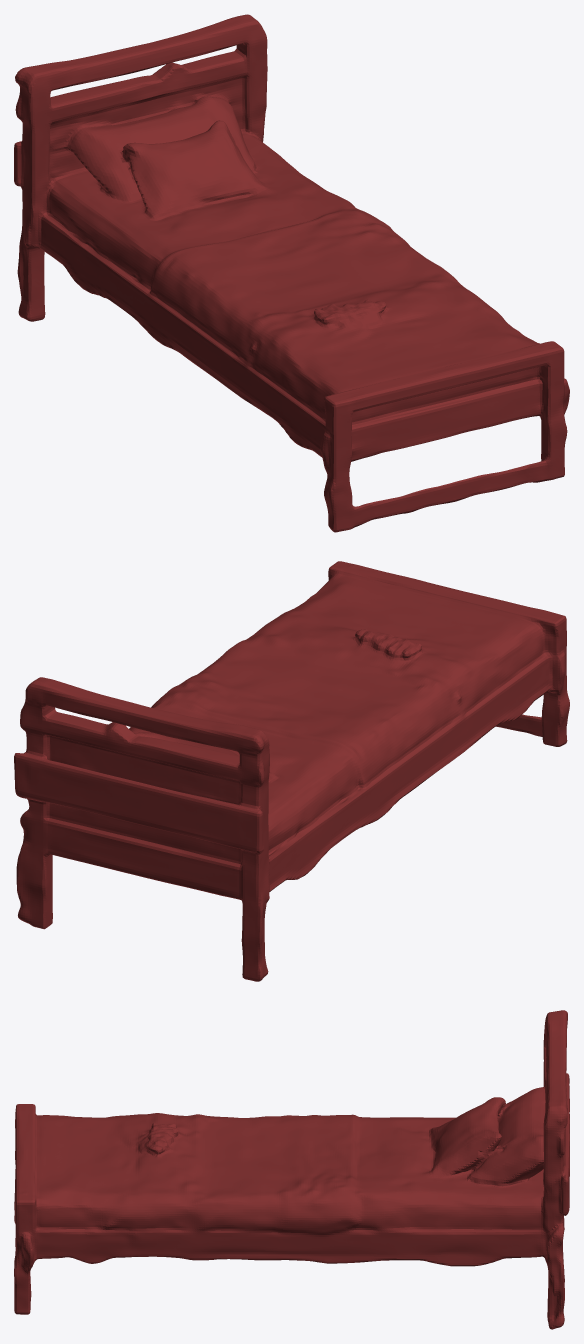
The picture shows the model from 3 angles, top to bottom: view 1: azimuth 30°, elevation 25°; view 2: azimuth 150°, elevation 25°; view 3: azimuth 270°, elevation 25°; orthographic projection. The views are drawn at different scales.
Parts seen in each view (by area): view 1: world; view 2: world; view 3: world.
Part boxes in pixels (x1=…): world: x1=14, y1=14, x2=569, y2=532; world: x1=14, y1=561, x2=569, y2=981; world: x1=14, y1=1010, x2=569, y2=1329.
Bounding box in the file's own units: 0.8883 × 0.8453 × 1.95.
